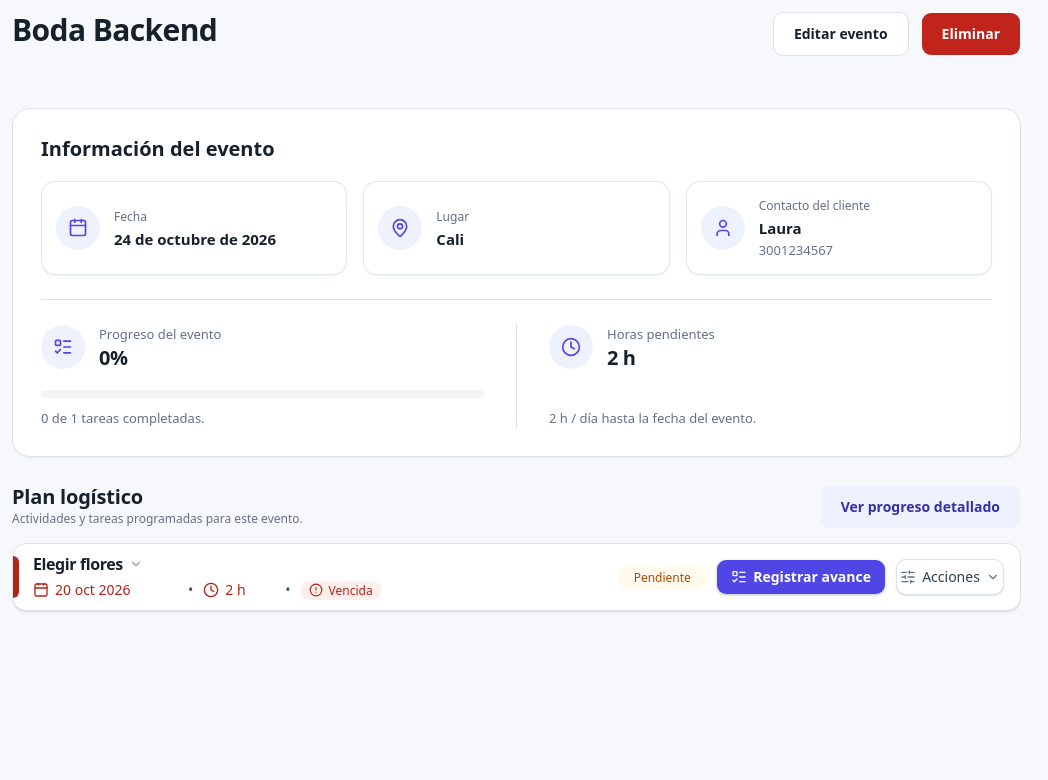
Test case: EventDetailContent › no incluye las acciones de Editar tarea ni Eliminar tarea en el menú de acciones del detalle del evento
Click the button with aria-label "Más acciones para Elegir flores" at (950, 577), box [896,559,1004,595]
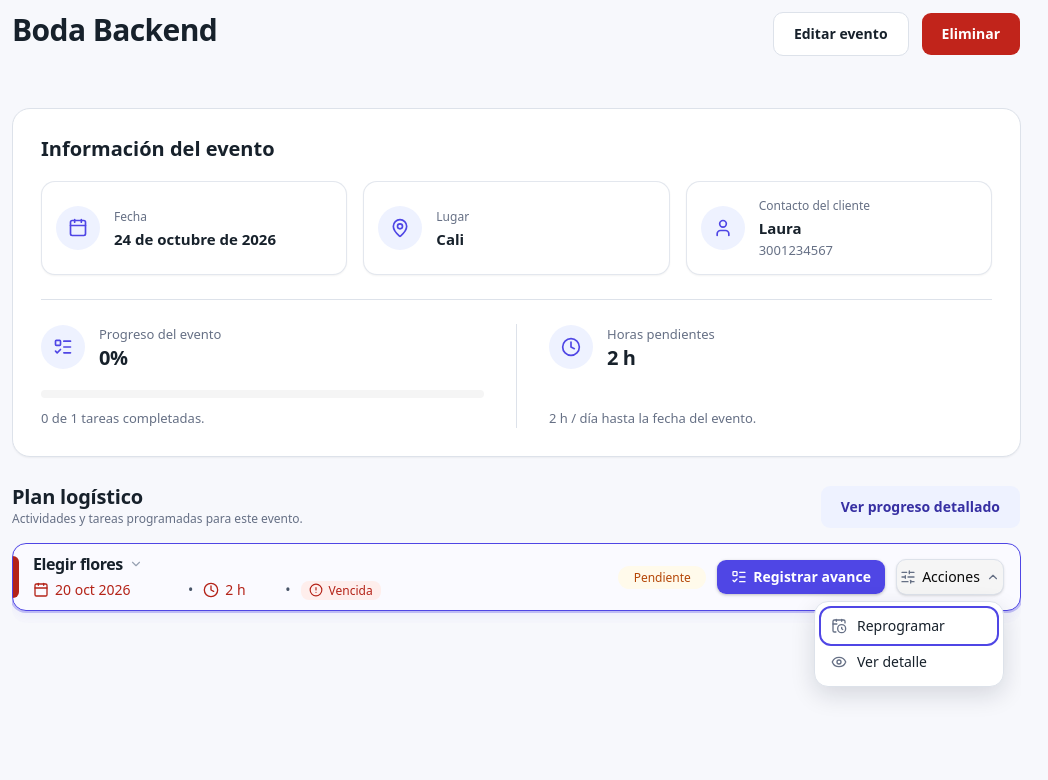
Result: the menu item with aria-label "Reprogramar Elegir flores" is shown at [821,608,997,644]
Result: the menu item with aria-label "Ver detalle de Elegir flores" is shown at [821,644,997,680]
